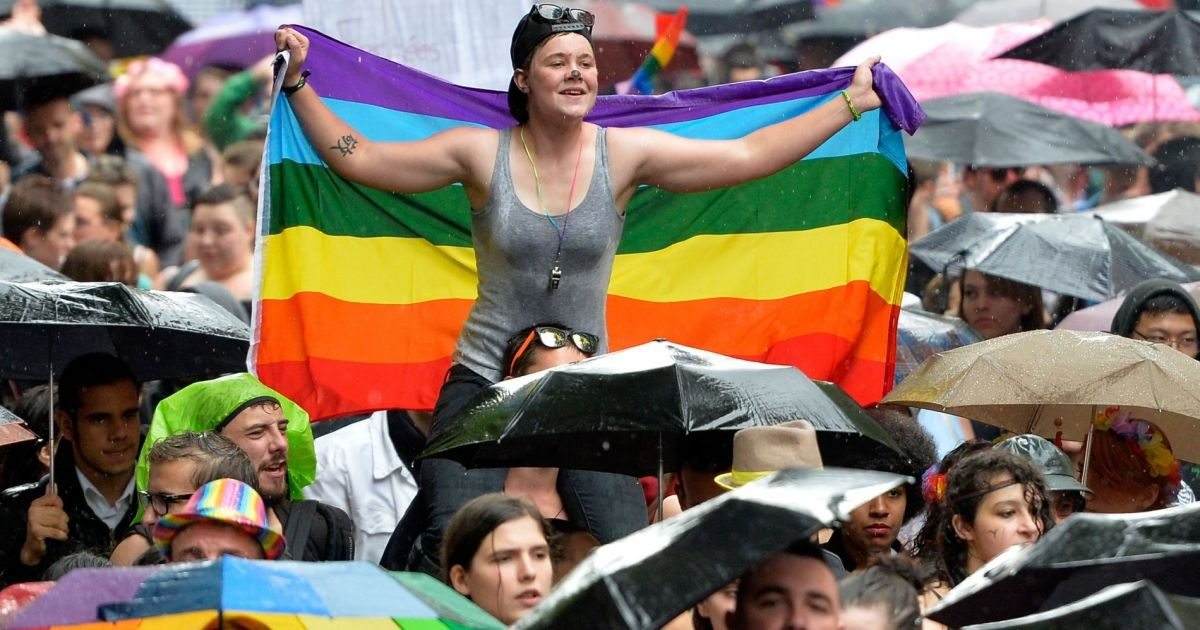without_mask: (511, 23, 600, 125), (464, 514, 550, 617), (954, 464, 1044, 545), (69, 381, 142, 472), (223, 397, 289, 493), (963, 260, 1034, 338), (194, 205, 248, 276), (124, 74, 177, 139), (32, 106, 80, 160), (25, 209, 69, 265)
